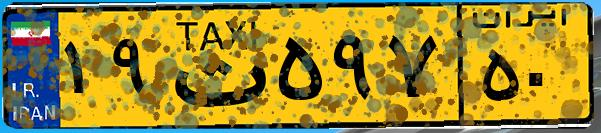0: (525, 38, 570, 115)
1: (57, 26, 110, 100)
5: (270, 28, 330, 110), (475, 38, 525, 113)
7: (385, 28, 445, 110)
9: (330, 28, 385, 110), (110, 28, 158, 98)
ت: (158, 12, 270, 120)
